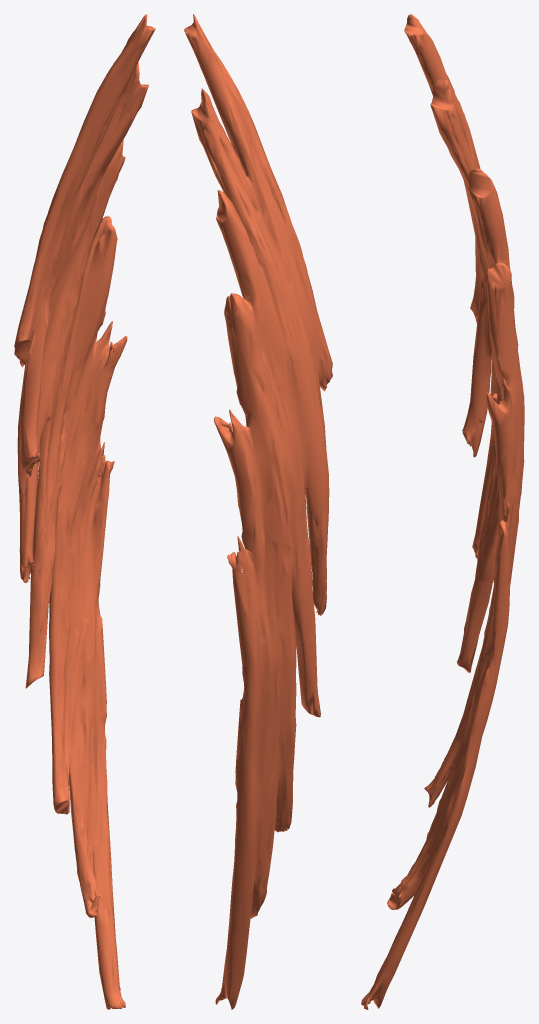
File: Semispinalis_thoracis.r_Generated_Mesh_From_X3D.225.glb
The picture shows the model from 3 angles, left to right: view 1: azimuth 30°, elevation 25°; view 2: azimuth 210°, elevation 25°; view 3: azimuth 270°, elevation 25°; orthographic projection. The views are drawn at different scales.
Visible parts, largest first — view 1: Semispinalis_thoracis.r_Generated_Mesh_From_X3D.225; view 2: Semispinalis_thoracis.r_Generated_Mesh_From_X3D.225; view 3: Semispinalis_thoracis.r_Generated_Mesh_From_X3D.225.
Part boxes in pixels (left/top/right/bottom): Semispinalis_thoracis.r_Generated_Mesh_From_X3D.225: left=14, top=14, right=155, bottom=1009; Semispinalis_thoracis.r_Generated_Mesh_From_X3D.225: left=184, top=14, right=332, bottom=1009; Semispinalis_thoracis.r_Generated_Mesh_From_X3D.225: left=361, top=14, right=524, bottom=1009.
Size of the model in its own units: 0.0354 by 0.2814 by 0.0408.
